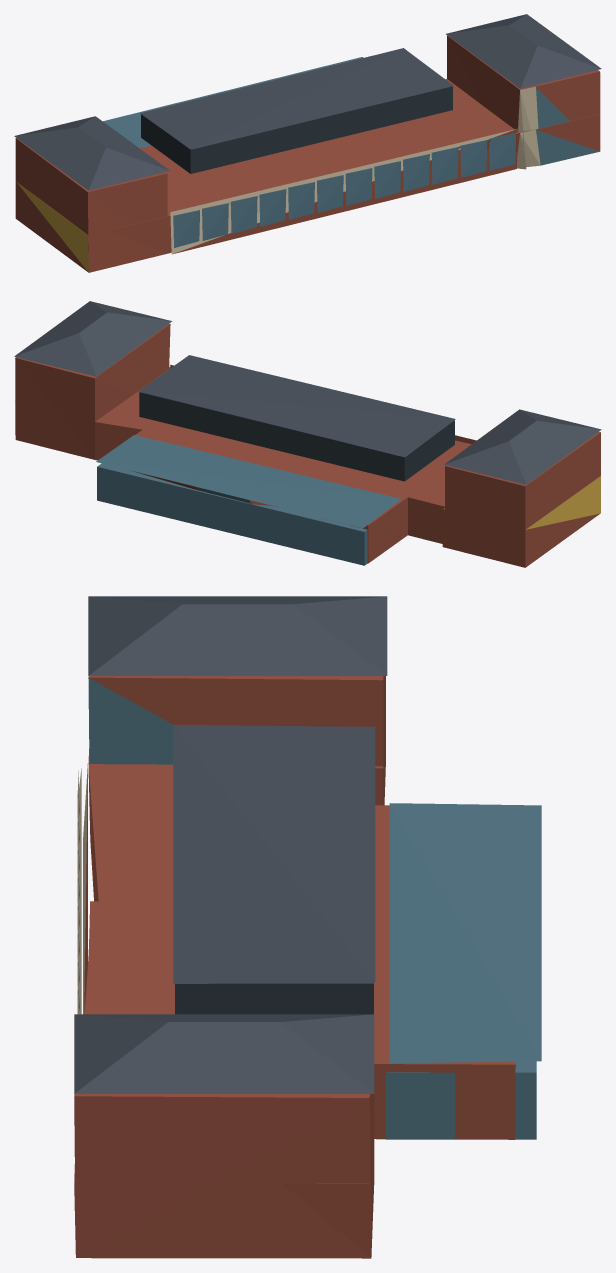
The model's file is micropia-ledenlokalen.lod2.glb.
The picture shows the model from 3 angles, top to bottom: view 1: azimuth 30°, elevation 25°; view 2: azimuth 150°, elevation 25°; view 3: azimuth 270°, elevation 25°; orthographic projection. The views are drawn at different scales.
Parts seen in each view (by area): view 1: lod2; view 2: lod2; view 3: lod2.
Part boxes in pixels (box(x1,y1,x2,y2)): lod2: box(14, 14, 601, 272); lod2: box(14, 301, 601, 567); lod2: box(74, 596, 541, 1258).
Bounding box in the file's own units: 78.1 × 14.45 × 31.02.
